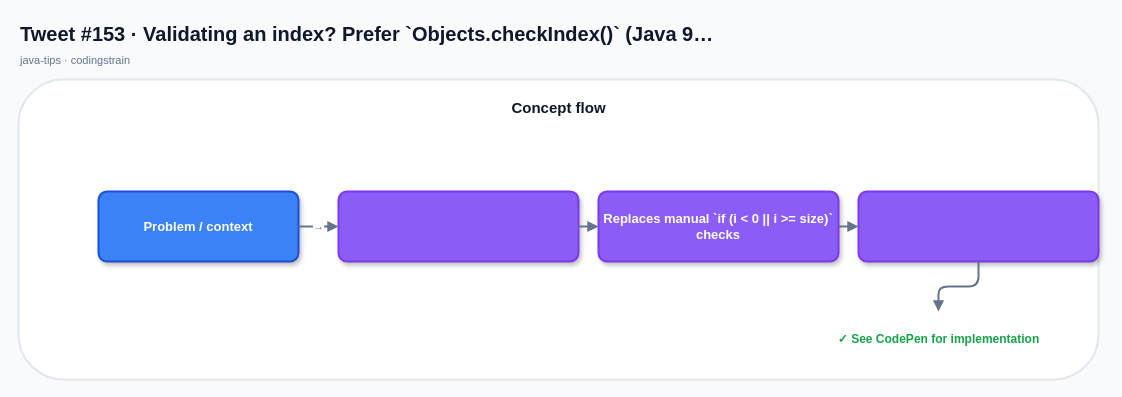
The diagram is 1122 pixels wide and 397 high, and some of its shapes have lost their labels. Here are the shapes that lost their labels. From the top down, the centre of each, then its label:
At point 459,227: "💡 Validating an index? Prefer `Objects.checkIndex()` (Java 9+).".
At point 979,227: "Throws `IndexOutOfBoundsException` with a clear message".
